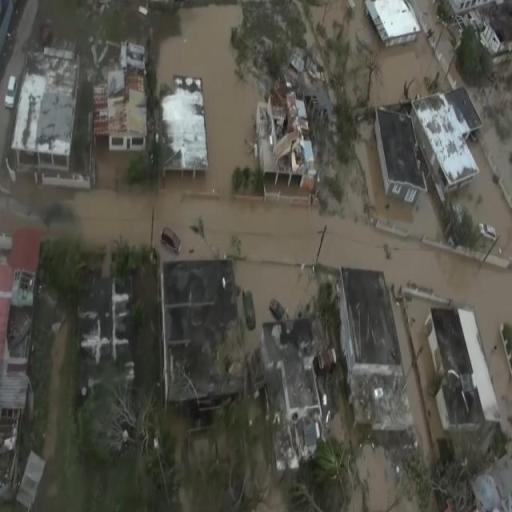flood: (0, 0, 512, 444), (383, 272, 425, 459), (458, 144, 512, 258), (481, 59, 512, 195), (406, 298, 438, 417)
house: (158, 236, 244, 410), (379, 85, 489, 211), (256, 313, 332, 457), (426, 305, 502, 437), (18, 32, 87, 172), (339, 264, 402, 379), (255, 90, 318, 194), (161, 76, 207, 168), (364, 0, 426, 47), (10, 220, 42, 278)
